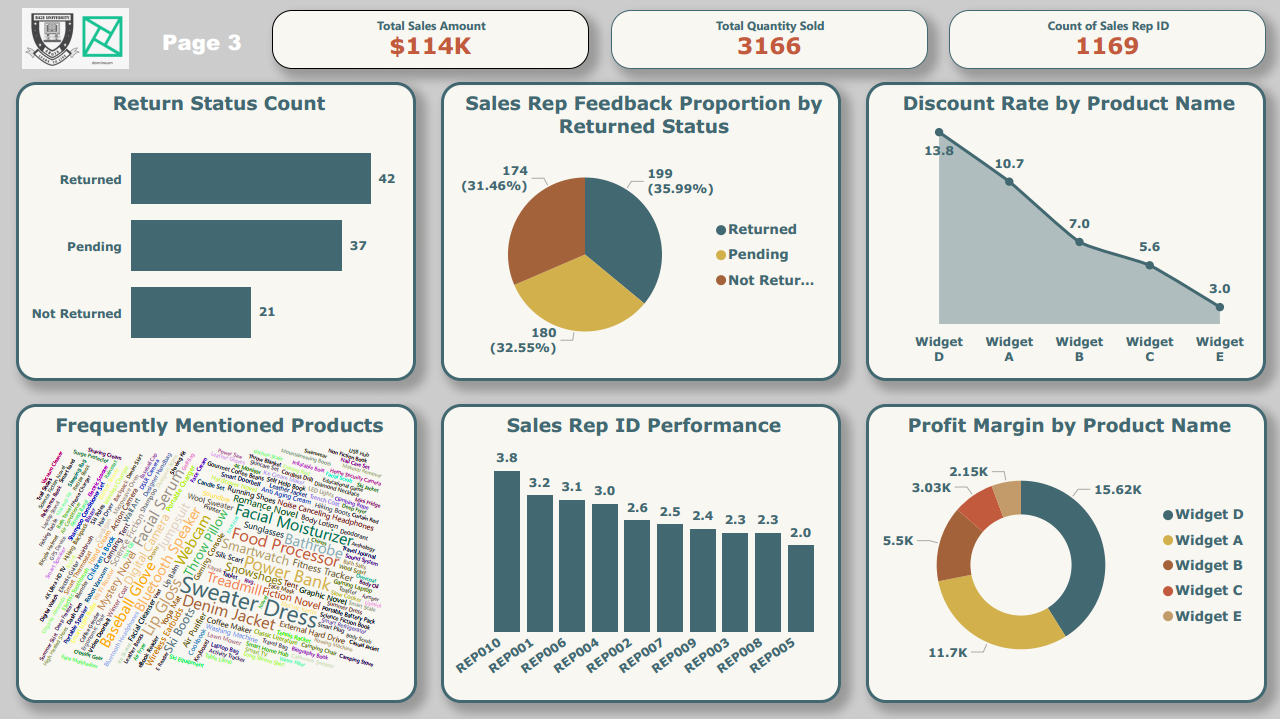

The page's visual inventory and layout, read from the dashboard file:
{"tool":"powerbi","page":{"name":"Page 3","canvas":[1280,720],"ordinal":2},"visuals":[{"type":"barChart","title":"Return Status Count","fields":{"Category":["Return Status.Returned Status"],"Y":["Sum(Return Status.Percentage)"]},"box":[15.6,82.7,400.7,299.6],"z":0},{"type":"areaChart","title":"Discount Rate by Product Name","fields":{"Category":["Discount.Product Name"],"Y":["Sum(Discount.Discount Rate)"]},"box":[865.7,82.7,400.7,299.6],"z":1000},{"type":"pieChart","title":"Sales Rep Feedback Proportion by Returned Status","fields":{"Category":["Return Status.Returned Status"],"Y":["Sum(Return Status.Highest Sales Rep Feedback)"]},"box":[440.6,82.7,400.7,299.6],"z":2000},{"type":"WordCloud1447959067750","title":"Frequently Mentioned Products","fields":{"Category":["Section 7a: Sales Analysis by Product Name.Product_Name"],"Values":["Sum(Section 7b: Analysis by Sales Channel and Product Name.Quantity)"]},"box":[15.8,404.9,400.7,299.6],"z":3000},{"type":"donutChart","title":"Profit Margin by Product Name","fields":{"Category":["Profit Margin.Product Name"],"Y":["Sum(Profit Margin.Sum of Profit Margin)"]},"box":[865.9,404.9,400.7,299.6],"z":4000},{"type":"clusteredColumnChart","title":"Sales Rep ID Performance","fields":{"Category":["Sales Rep ID 2.Sales Rep ID"],"Series":["Sales Rep ID 2.Sales Channel"],"Y":["Sum(Sales Rep ID 2.Percentage)"]},"box":[440.6,404.6,400.7,299.6],"z":5000},{"type":"card","title":"Total Sales Amount","fields":{"Values":["Sum(Total Sales Amount.B)"]},"box":[272.2,10.6,316.8,59.5],"z":6000},{"type":"card","title":"Count of Sales Rep ID","fields":{"Values":["Sum(Total Sales Rep ID.B)"]},"box":[949.4,10.6,316.8,59.5],"z":7000},{"type":"card","title":"Total Quantity Sold","fields":{"Values":["Sum(Total Quantity Sold.B)"]},"box":[611.3,10.6,316.8,59.5],"z":8000},{"type":"image","box":[15.9,5.3,118,70.2],"z":9000},{"type":"textbox","box":[152,23.4,99.9,46.8],"z":10000}]}

Visuals, with their boxes in screenshot pixels (x1, y1, x2, y2), scaled from the page's 1280x720 canvas onto the 1281x719 screenshot:
"Return Status Count" barChart: pyautogui.locateOnScreen(16, 83, 417, 382)
"Discount Rate by Product Name" areaChart: pyautogui.locateOnScreen(866, 83, 1267, 382)
"Sales Rep Feedback Proportion by Returned Status" pieChart: pyautogui.locateOnScreen(441, 83, 842, 382)
"Frequently Mentioned Products" WordCloud1447959067750: pyautogui.locateOnScreen(16, 404, 417, 704)
"Profit Margin by Product Name" donutChart: pyautogui.locateOnScreen(867, 404, 1268, 704)
"Sales Rep ID Performance" clusteredColumnChart: pyautogui.locateOnScreen(441, 404, 842, 703)
"Total Sales Amount" card: pyautogui.locateOnScreen(272, 11, 589, 70)
"Count of Sales Rep ID" card: pyautogui.locateOnScreen(950, 11, 1267, 70)
"Total Quantity Sold" card: pyautogui.locateOnScreen(612, 11, 929, 70)
image: pyautogui.locateOnScreen(16, 5, 134, 75)
textbox: pyautogui.locateOnScreen(152, 23, 252, 70)
